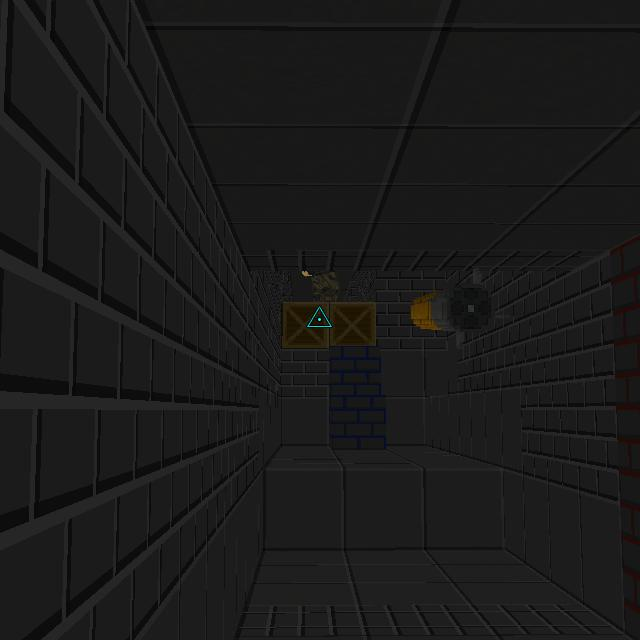enemy: (299, 270, 340, 302)
